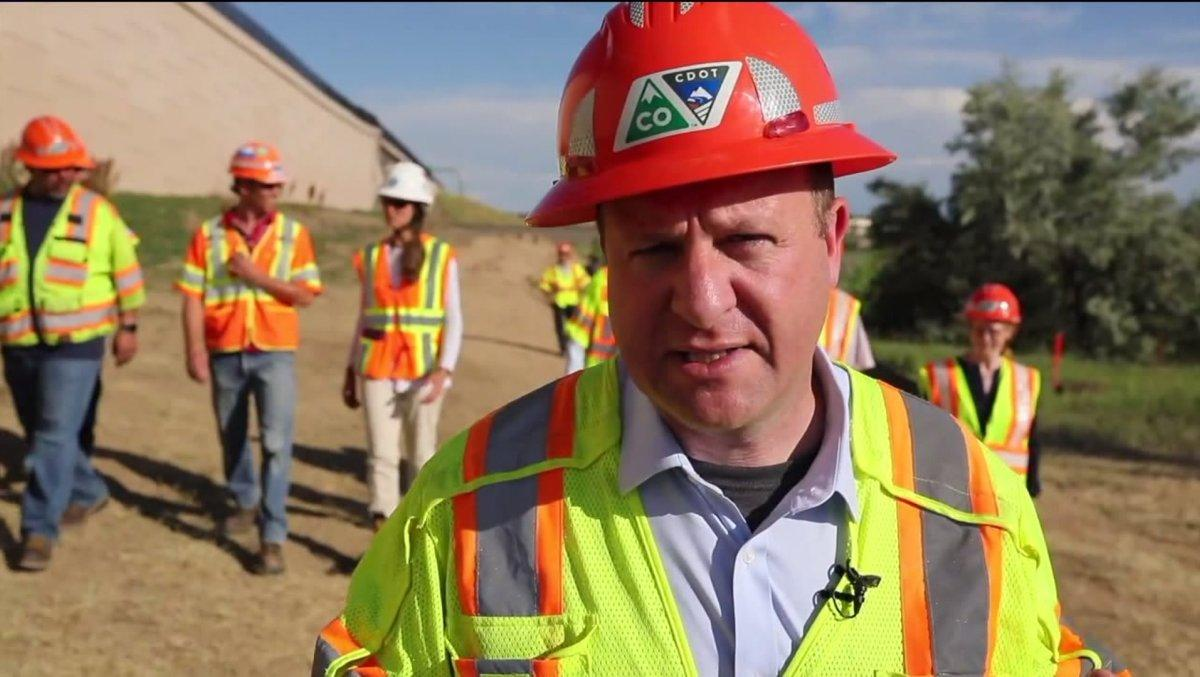helmet: (521, 1, 897, 230), (9, 118, 94, 171), (960, 280, 1026, 327), (374, 160, 437, 207), (226, 141, 290, 186)
